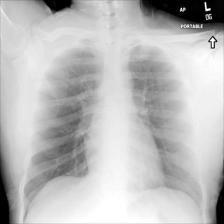normal: (22, 43, 209, 212)
